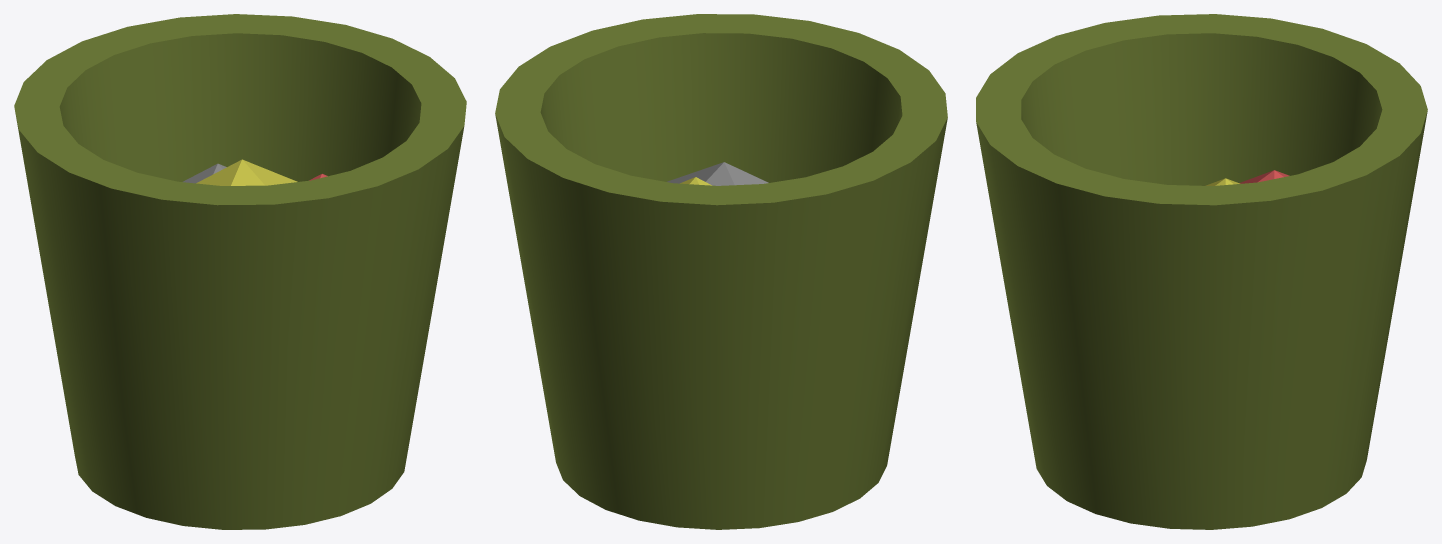
File: Trash can 2.fbx
3 renders of one model, left to right at view 1: azimuth 30°, elevation 25°; view 2: azimuth 150°, elevation 25°; view 3: azimuth 270°, elevation 25°, orthographic.
Parts seen in each view (by area): view 1: Trash can 2; view 2: Trash can 2; view 3: Trash can 2.
Part boxes in pixels (left/top/right/bottom): Trash can 2: left=14, top=14, right=466, bottom=529; Trash can 2: left=495, top=14, right=947, bottom=529; Trash can 2: left=976, top=14, right=1427, bottom=529.
Size of the model in its own units: 64.69 by 55.25 by 64.56.
